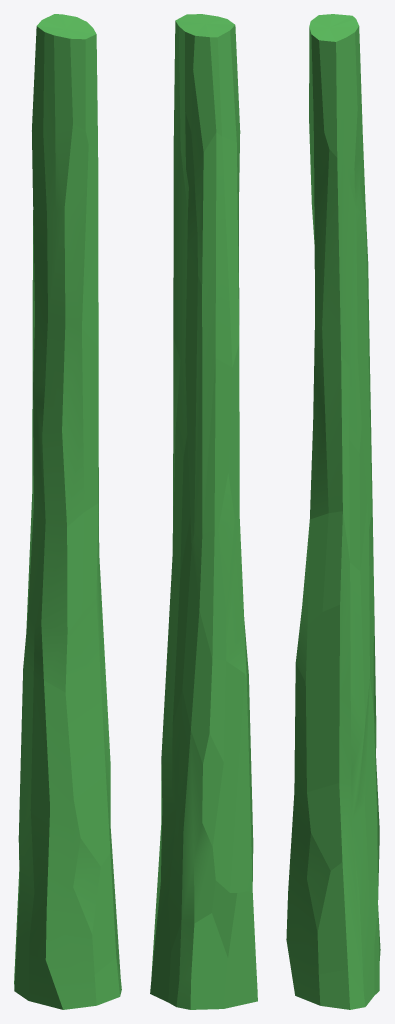
The model's file is jungle_tree_C.fbx.
3 views of the same model, side by side, from view 1: azimuth 30°, elevation 25°; view 2: azimuth 210°, elevation 25°; view 3: azimuth 330°, elevation 25° (orthographic).
Visible parts, largest first — view 1: jungle_tree_C; view 2: jungle_tree_C; view 3: jungle_tree_C.
Part boxes in pixels (box(x1,y1,x2,y2)): jungle_tree_C: box(14, 14, 121, 1009); jungle_tree_C: box(150, 14, 257, 1009); jungle_tree_C: box(286, 14, 380, 1009).
Size of the model in its own units: 70.65 by 794 by 67.44.
